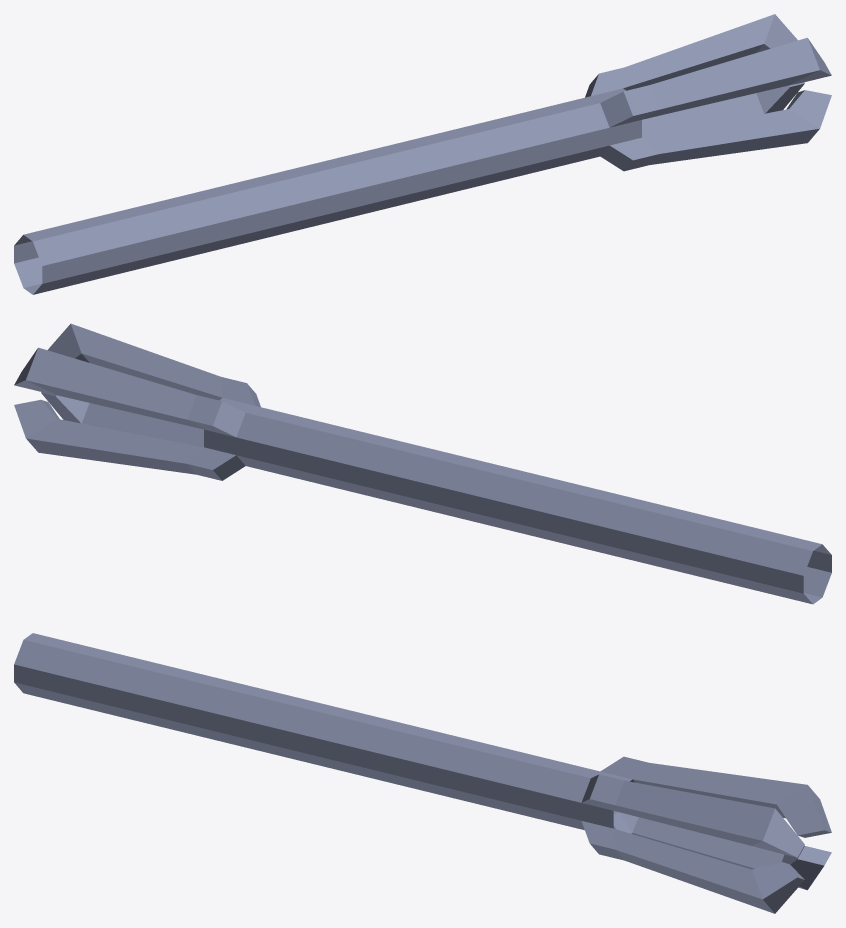
File: Tank_gun.fbx
3 renders of one model, top to bottom at view 1: azimuth 30°, elevation 25°; view 2: azimuth 150°, elevation 25°; view 3: azimuth 330°, elevation 25°, orthographic.
Parts seen in each view (by area): view 1: Gun; view 2: Gun; view 3: Gun.
Part boxes in pixels (x1=…): Gun: x1=14, y1=14, x2=831, y2=294; Gun: x1=14, y1=323, x2=831, y2=604; Gun: x1=14, y1=633, x2=831, y2=913.
Bounding box in the file's own units: 646 × 82.81 × 81.68.
